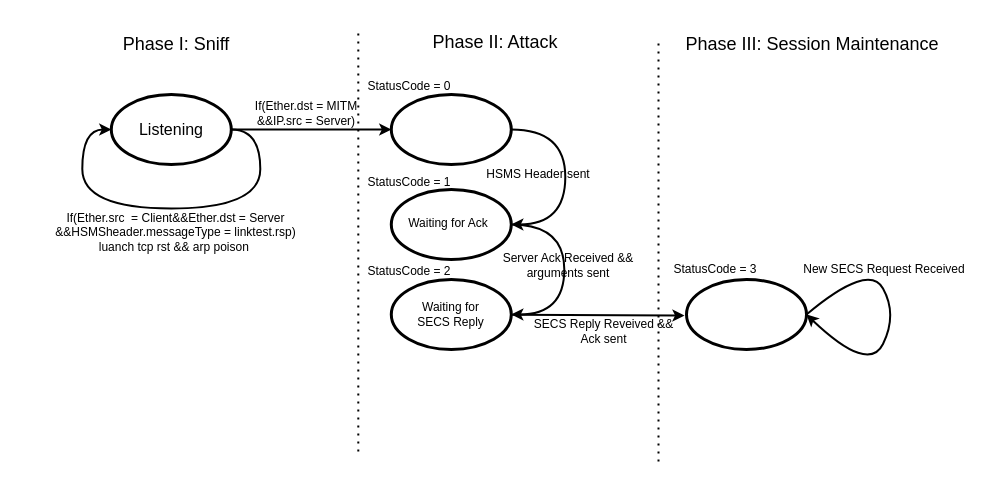
This 989x480 diagram has some shape labels left out. Each missing label, with the box of its shape:
Preparing HSMS Header: (389, 92, 512, 166)
Waiting for further interaction: (684, 278, 808, 350)
